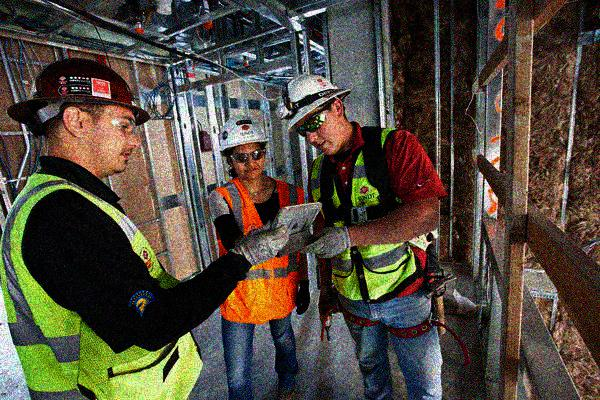helmet: (9, 56, 149, 175), (280, 74, 353, 155), (217, 115, 271, 179)
